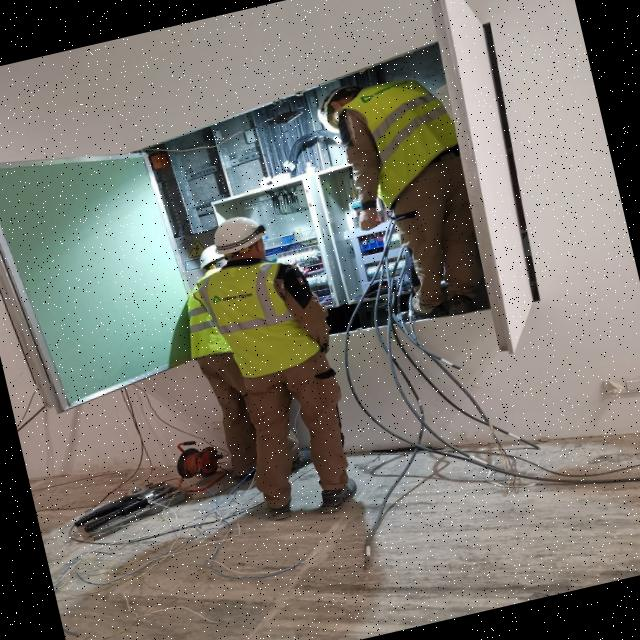Helmet: (208, 213, 270, 260), (313, 87, 358, 139), (197, 246, 224, 272)
Jacket: (347, 75, 455, 203), (200, 258, 308, 384), (179, 288, 222, 359)
